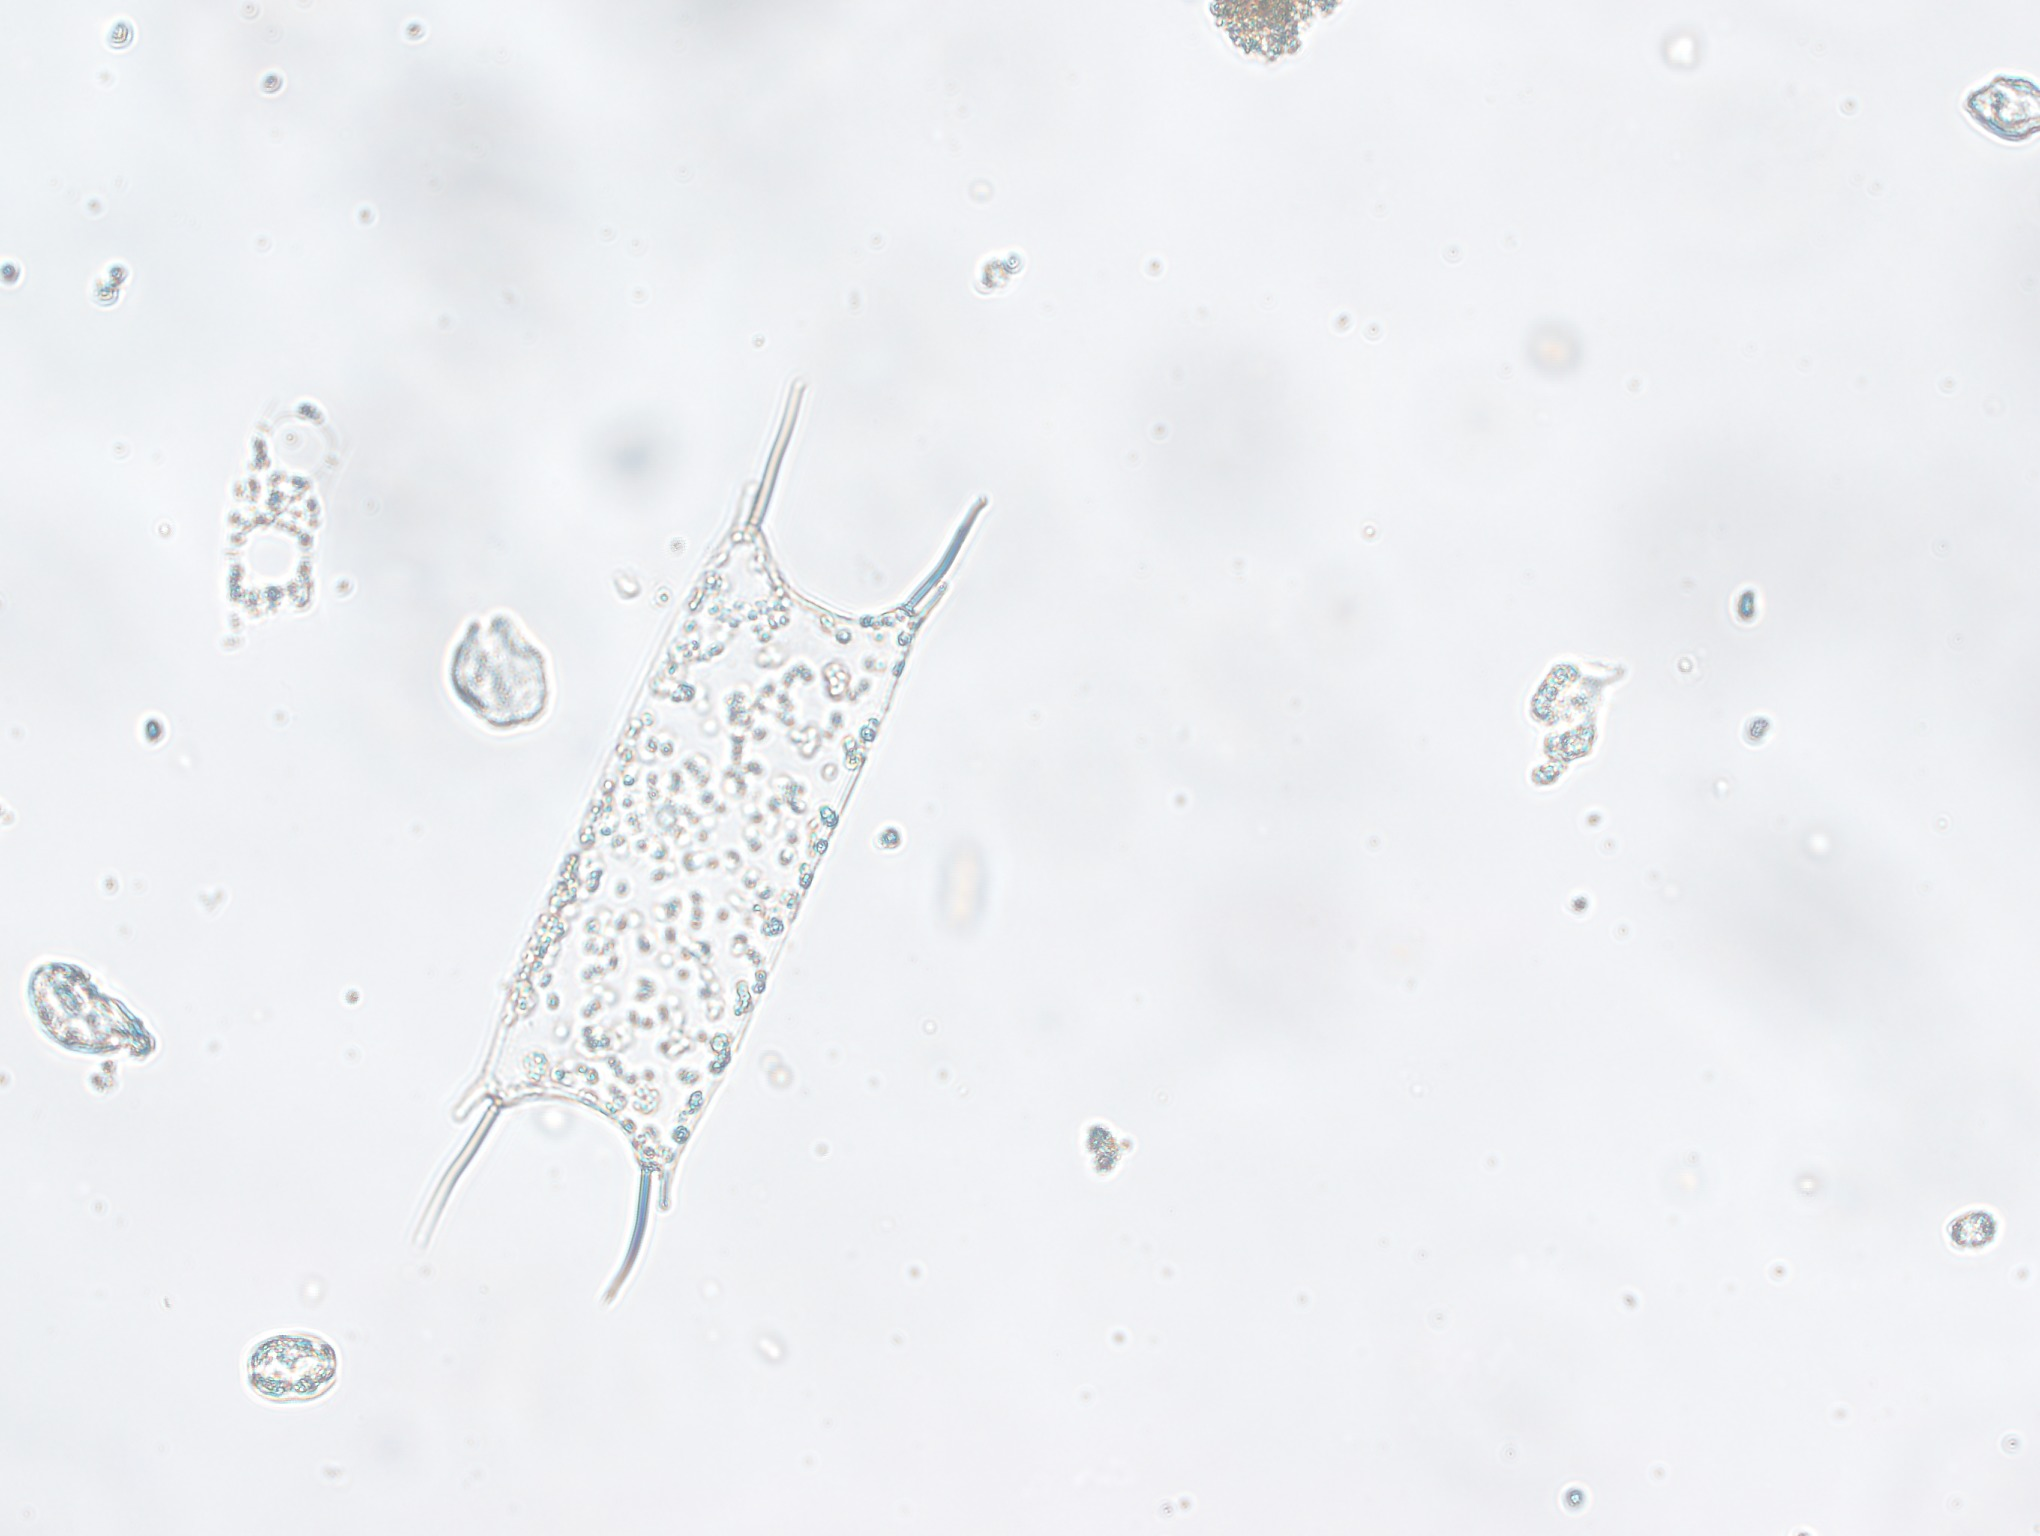biddulphia: (419, 355, 997, 1304)
